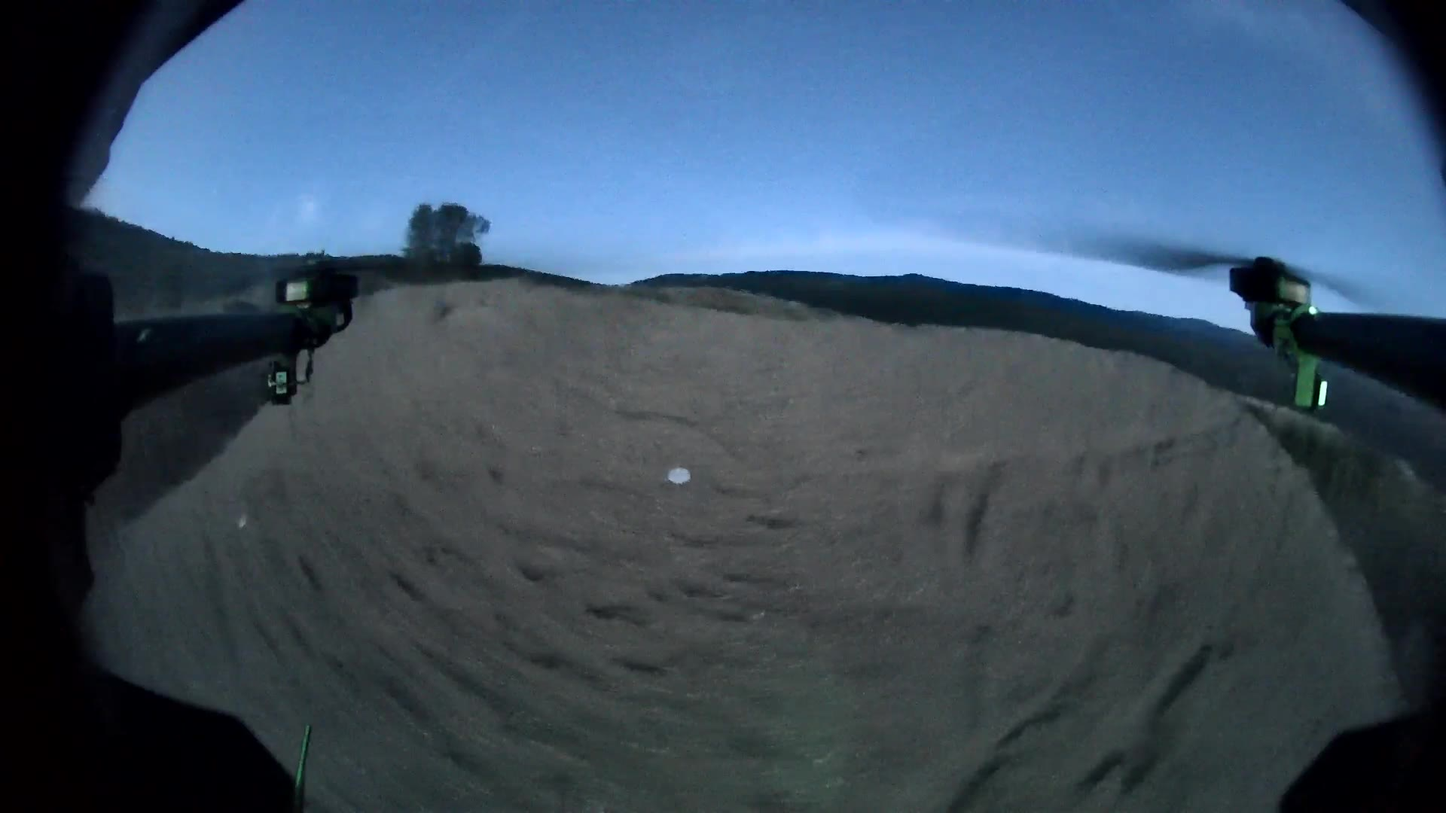Target: (666, 465, 691, 486)
